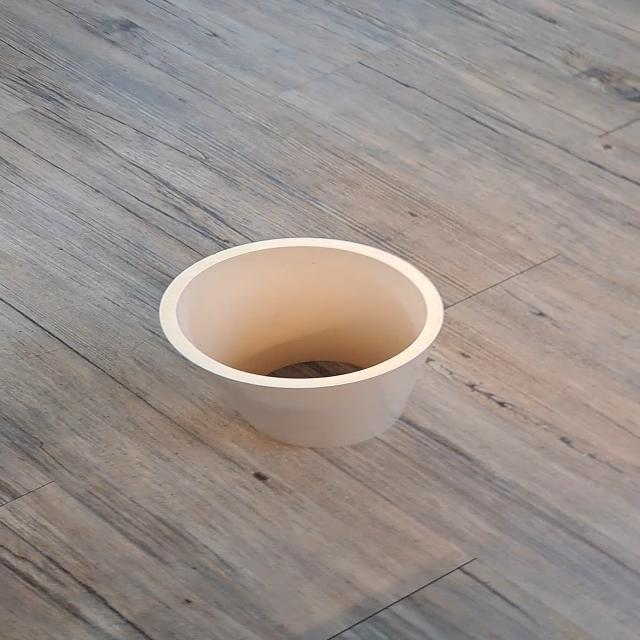CORAL: (128, 215, 466, 465)
